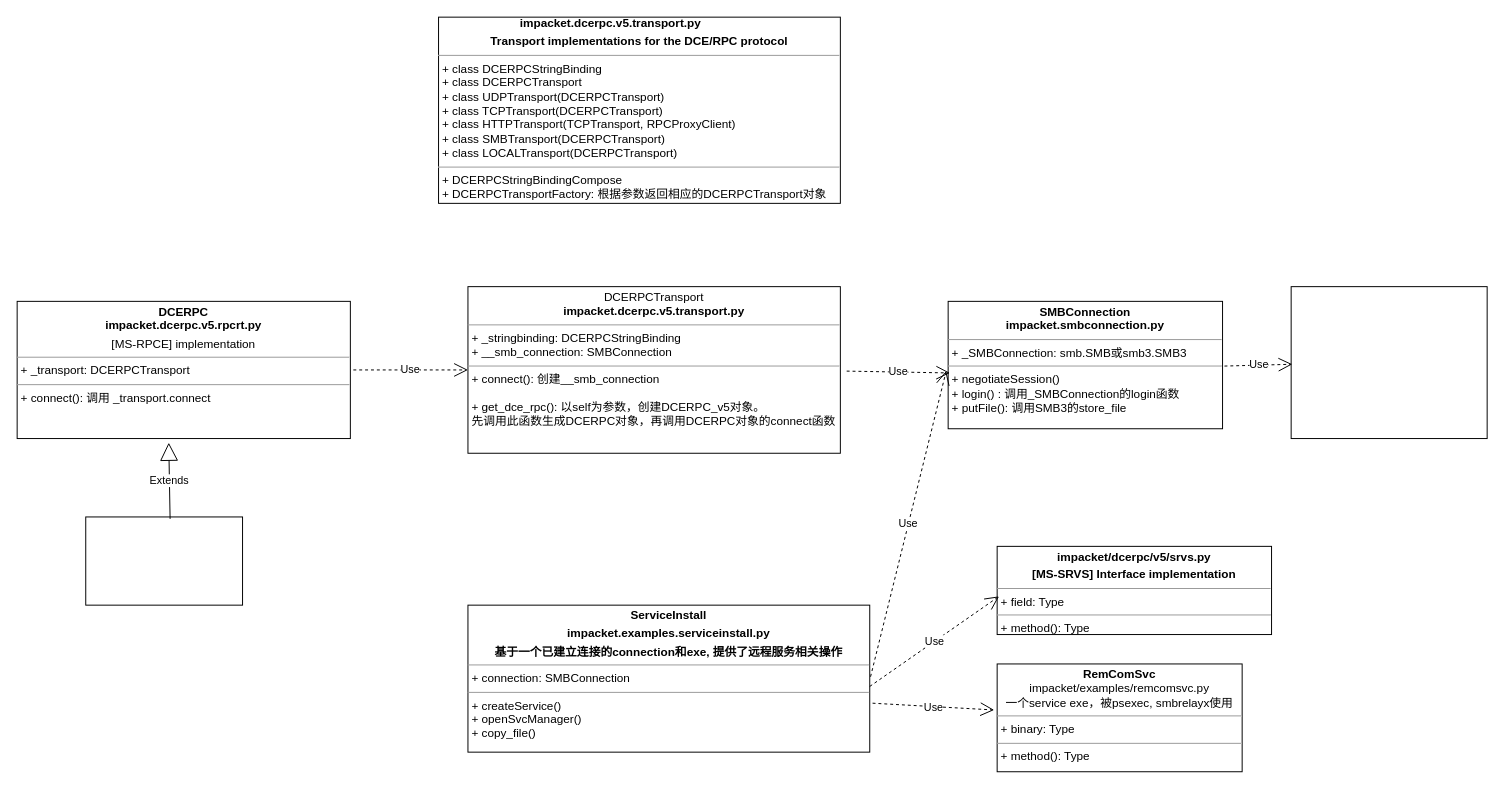
Image size: 1504x789. Some labels were removed from this diagram. The centre of each missing label's shape, as x and y in pixels:
DCERPC_v5 + field: Type + method(): Type: the point at 164,560
SMB3 impacket/smb3.py 提供smb底层操作 + field: Type + login(): Type + store_file(): the point at 1388,362
